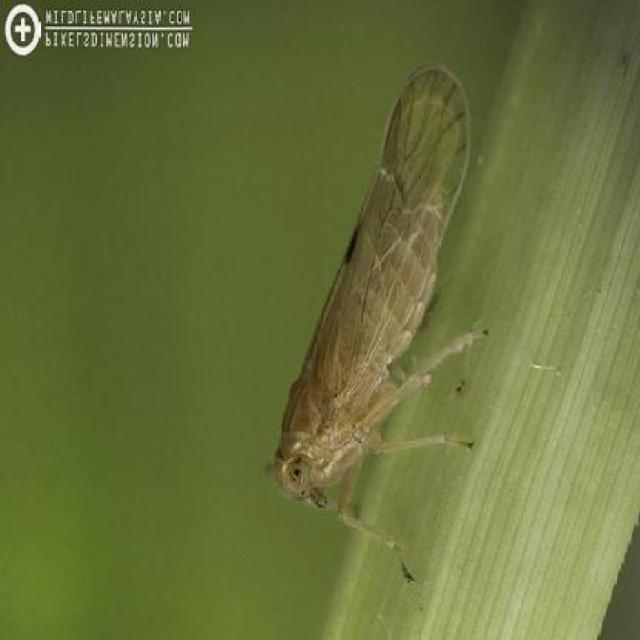brown-planthopper: (265, 56, 493, 521)
